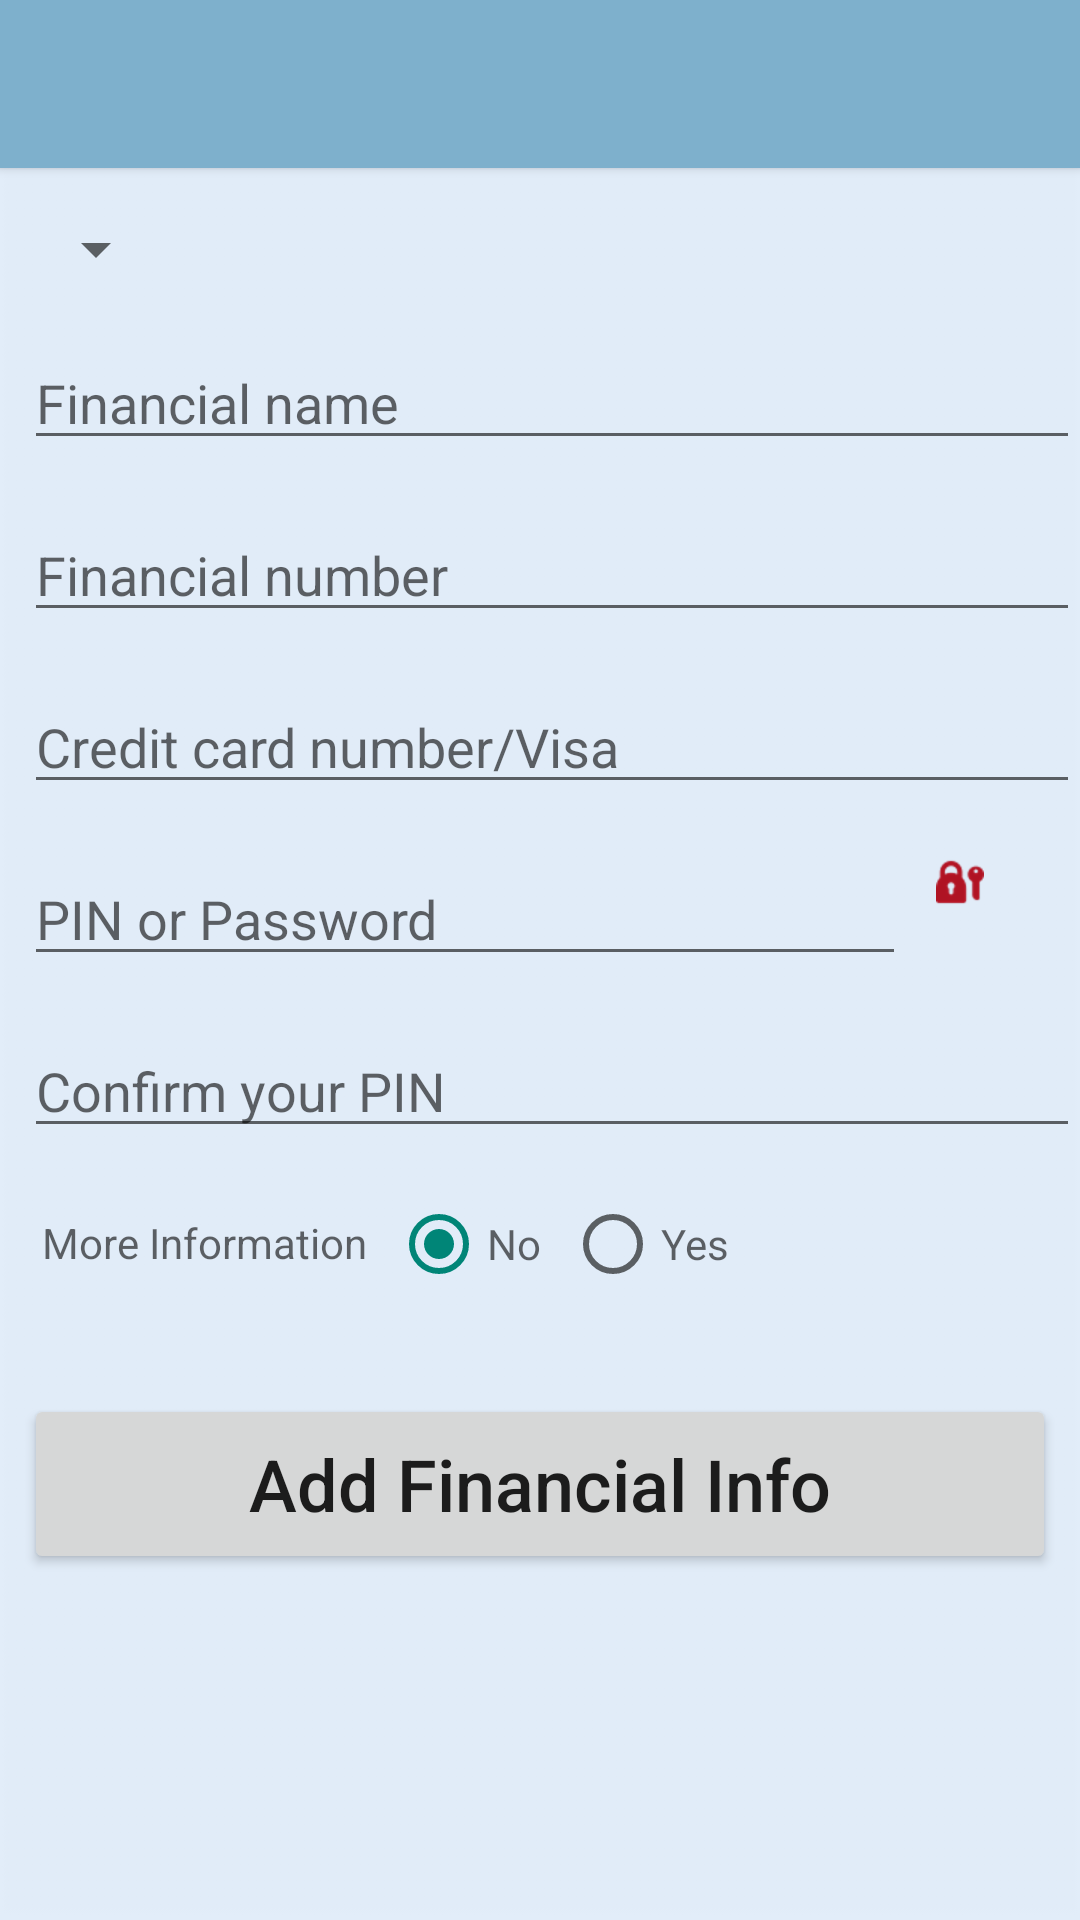

Icons on this 1080 × 1920 Android screen, each with the point to tap as [x,y]:
passg: [960,882]
